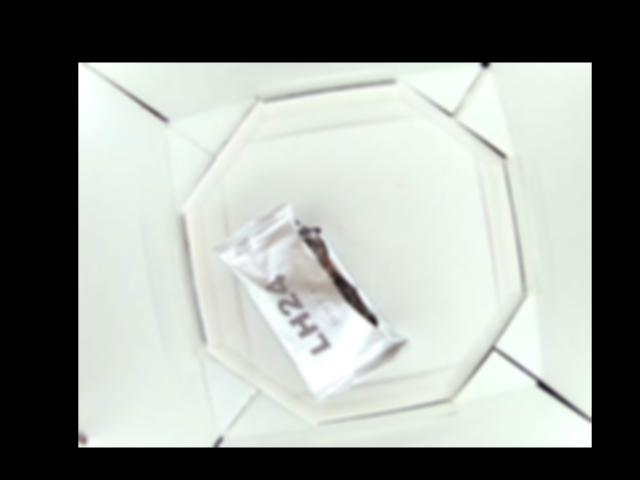Medicine: (215, 198, 408, 396)
